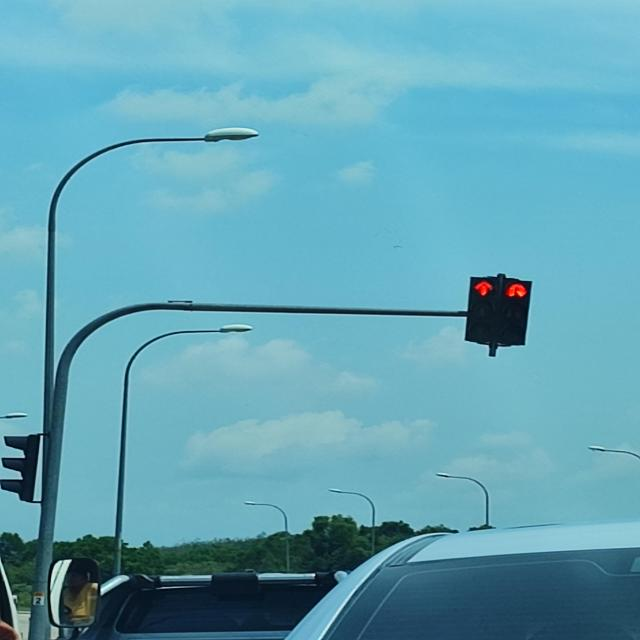car: (22, 514, 640, 640), (210, 515, 640, 640), (26, 570, 345, 640)
traffic light: (465, 275, 533, 354), (0, 433, 41, 503), (465, 275, 499, 347), (499, 277, 533, 347)
